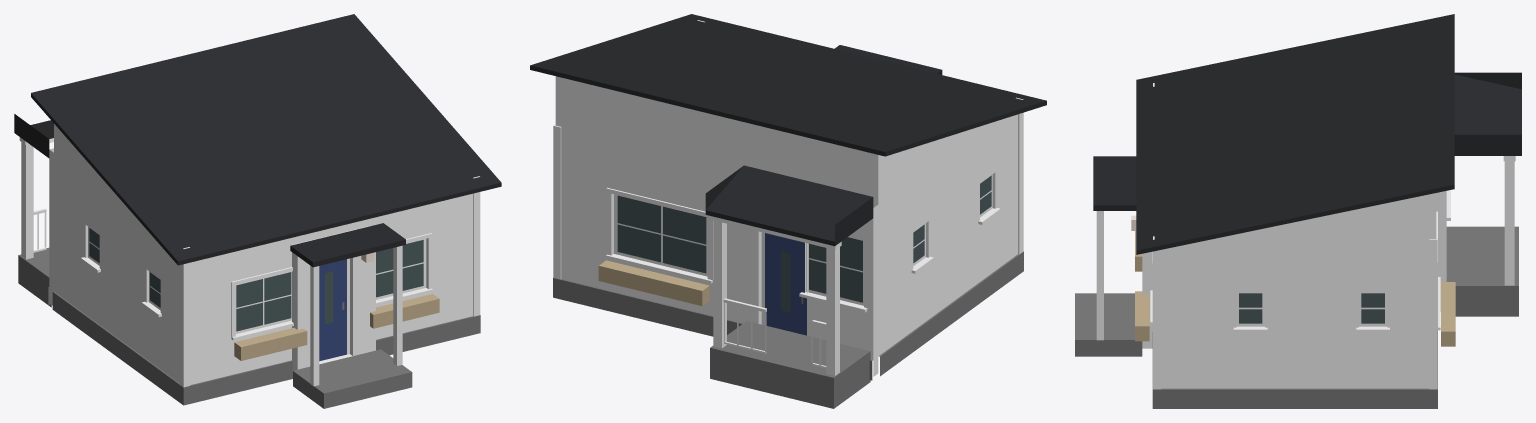
Rendered from mashup-hut_cottage-top-prebuilt.fbx.
3 views of the same model, side by side, from view 1: azimuth 30°, elevation 25°; view 2: azimuth 150°, elevation 25°; view 3: azimuth 270°, elevation 25° (orthographic). The views are drawn at different scales.
Visible parts, largest first — view 1: a2015.hut_cottage; view 2: a2015.hut_cottage; view 3: a2015.hut_cottage.
Boxes of the visible parts, x1,y1,x2,y2 form: a2015.hut_cottage: (14,14,501,408); a2015.hut_cottage: (530,14,1046,408); a2015.hut_cottage: (1075,14,1521,408).
Size of the model in its own units: 6.6 by 4.22 by 7.3.
